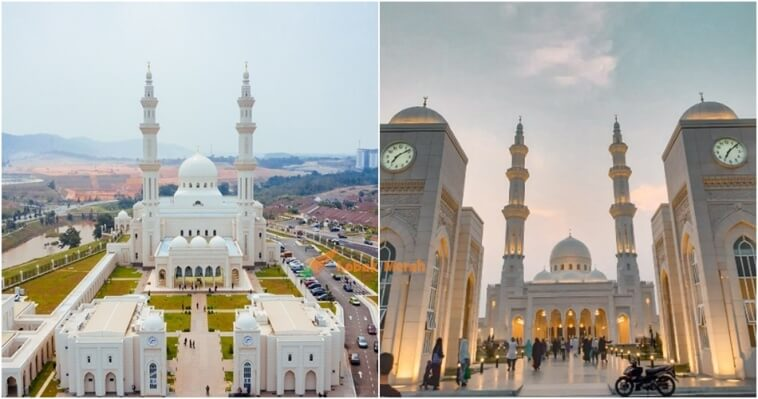Mosque: (495, 117, 645, 344), (120, 63, 267, 259)
